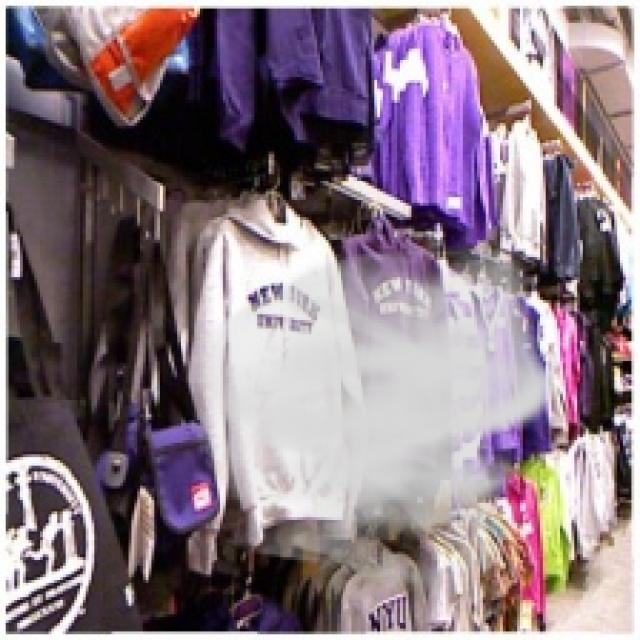smoke: (177, 237, 557, 603)
